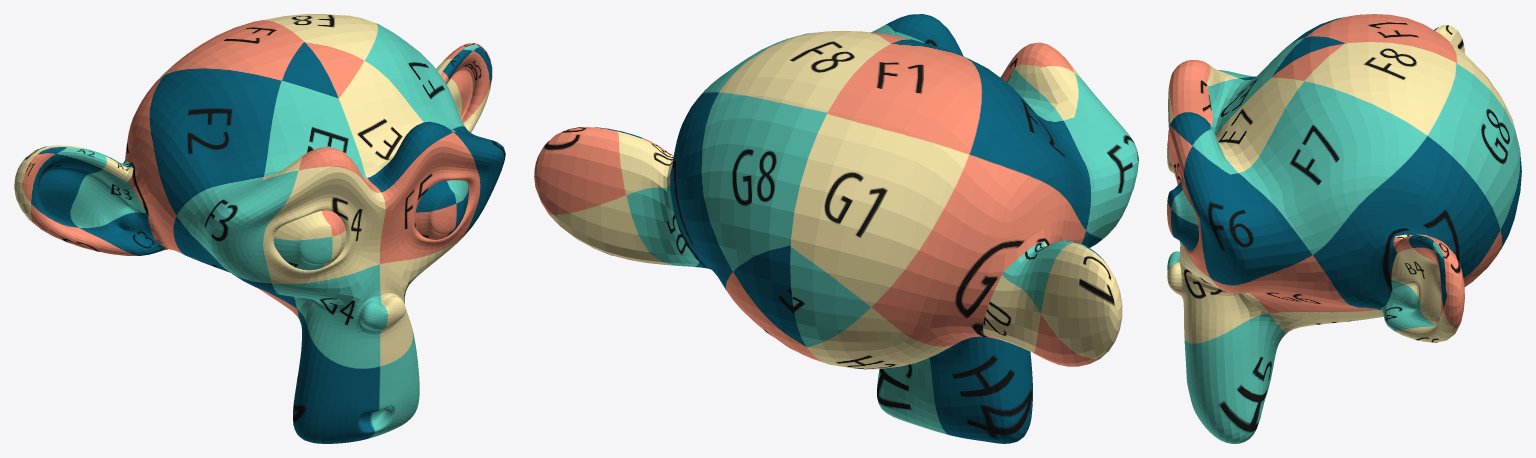
Rendered from dense_monkey.glb.
3 views of the same model, side by side, from view 1: azimuth 30°, elevation 25°; view 2: azimuth 150°, elevation 25°; view 3: azimuth 270°, elevation 25° (orthographic). The views are drawn at different scales.
Parts seen in each view (by area): view 1: Suzanne.001; view 2: Suzanne.001; view 3: Suzanne.001.
Boxes of the visible parts, x1=… form: Suzanne.001: x1=14, y1=14, x2=505, y2=443; Suzanne.001: x1=534, y1=14, x2=1138, y2=443; Suzanne.001: x1=1167, y1=14, x2=1521, y2=443.
Size of the model in its own units: 2.66 by 1.91 by 1.6.
Materials: 1 (1 with a texture image).
